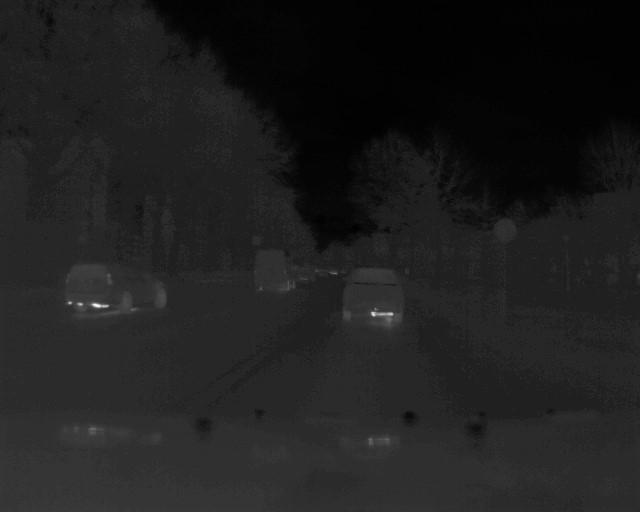car: (63, 261, 169, 318), (341, 264, 408, 327), (252, 249, 298, 295)
